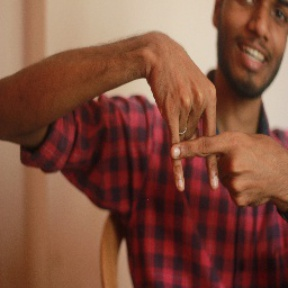H: (145, 90, 253, 215)
